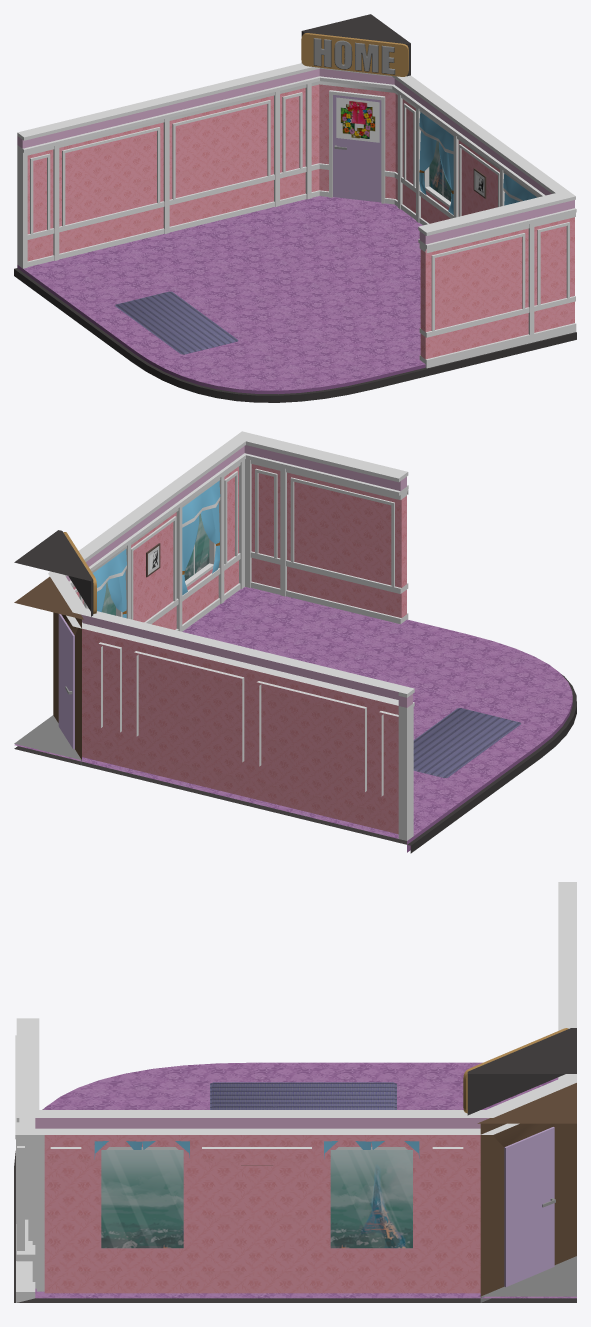
Rendered from interior_C_001.fbx.
3 renders of one model, top to bottom at view 1: azimuth 30°, elevation 25°; view 2: azimuth 150°, elevation 25°; view 3: azimuth 270°, elevation 25°, orthographic. The views are drawn at different scales.
Parts seen in each view (by area): view 1: interior_C_001; view 2: interior_C_001; view 3: interior_C_001.
Boxes of the visible parts, x1,y1,x2,y2 form: interior_C_001: (14,14,576,402); interior_C_001: (14,431,576,853); interior_C_001: (14,882,576,1302).
Bounding box in the file's own units: 707 × 331 × 707.
